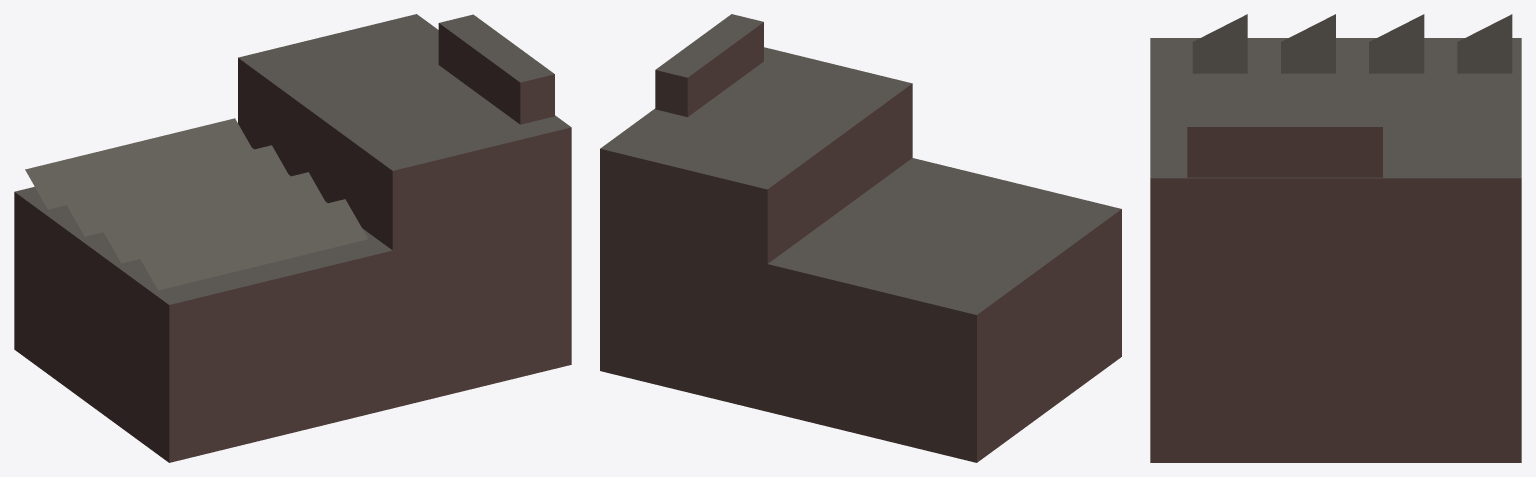
File: mh-sawtooth-works.far-facades-v3.lod2.glb
3 views of the same model, side by side, from view 1: azimuth 30°, elevation 25°; view 2: azimuth 150°, elevation 25°; view 3: azimuth 270°, elevation 25° (orthographic). The views are drawn at different scales.
Visible parts, largest first — view 1: mh-sawtooth-works; view 2: mh-sawtooth-works; view 3: mh-sawtooth-works.
Boxes of the visible parts, box(x1,y1,x2,y2) form: mh-sawtooth-works: box(14, 14, 571, 462); mh-sawtooth-works: box(600, 14, 1121, 462); mh-sawtooth-works: box(1150, 14, 1521, 462).
Size of the model in its own units: 18 by 11.95 by 12.
